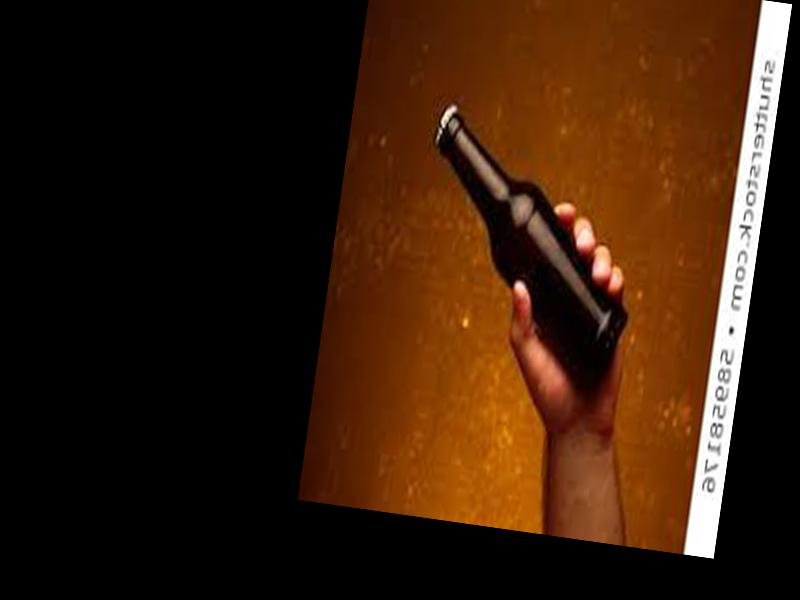Beer: (399, 98, 654, 406)
